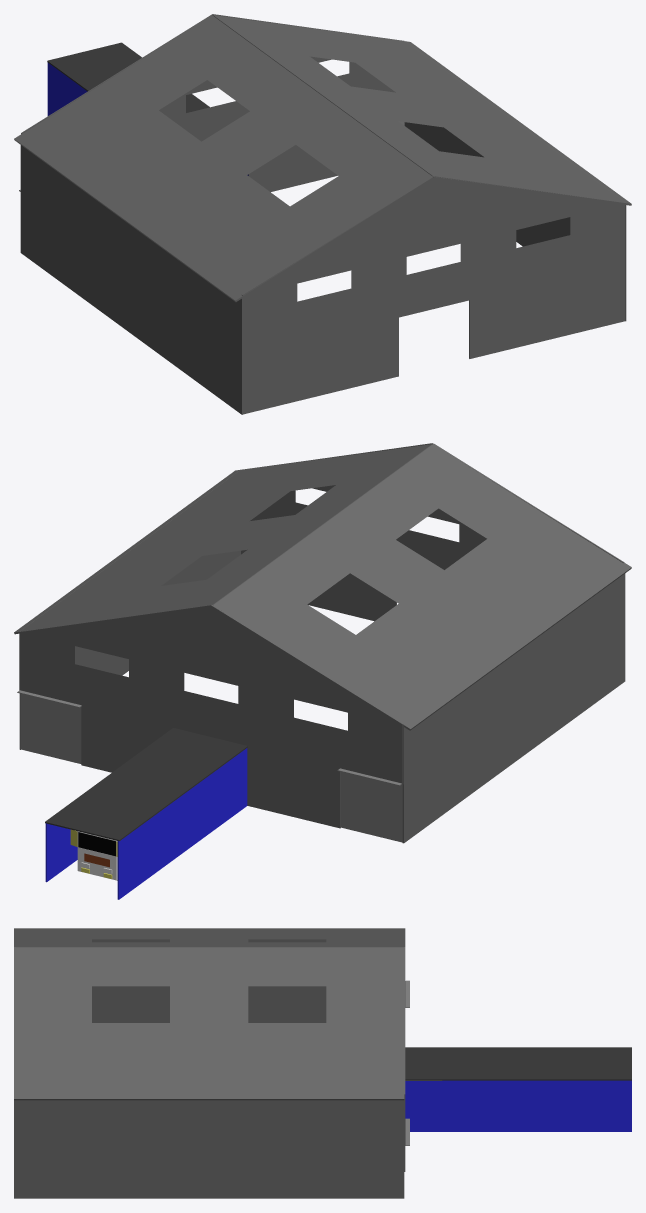
File: Warehouse.fbx
The picture shows the model from 3 angles, top to bottom: view 1: azimuth 30°, elevation 25°; view 2: azimuth 150°, elevation 25°; view 3: azimuth 270°, elevation 25°; orthographic projection. The views are drawn at different scales.
Parts seen in each view (by area): view 1: Cube.008, Cube.011, Cube.014, Cube.015, Cube.004, Cube.006, Cube.013, Cube.012, Cube.003, Cube.028, Cube.001, Cube.007 (+2 smaller); view 2: Cube.008, Cube.011, Cube.003, Cube.009, Cube.004, Cube.006, Cube.028, Cube.027, Cube.002, Cube.016, Cube.001, Cube.017 (+6 smaller); view 3: Cube.011, Cube.007, Cube.005, Cube.026, Cube.028, Cube.008, Cube.004, Cube.006.
Part boxes in pixels (x1=…): Cube.008: x1=14, y1=15, x2=433, y2=301; Cube.011: x1=212, y1=15, x2=631, y2=205; Cube.014: x1=243, y1=204, x2=624, y2=354; Cube.015: x1=242, y1=175, x2=620, y2=295; Cube.004: x1=20, y1=194, x2=243, y2=414; Cube.006: x1=20, y1=145, x2=243, y2=355; Cube.013: x1=243, y1=317, x2=398, y2=414; Cube.012: x1=469, y1=262, x2=624, y2=358; Cube.003: x1=159, y1=62, x2=395, y2=141; Cube.028: x1=47, y1=42, x2=209, y2=112; Cube.001: x1=248, y1=145, x2=337, y2=192; Cube.007: x1=404, y1=122, x2=626, y2=321; Cube.008: x1=213, y1=444, x2=631, y2=730; Cube.011: x1=14, y1=444, x2=432, y2=634; Cube.003: x1=19, y1=632, x2=403, y2=784; Cube.009: x1=20, y1=604, x2=403, y2=725; Cube.004: x1=402, y1=622, x2=625, y2=843; Cube.006: x1=403, y1=573, x2=625, y2=784; Cube.028: x1=45, y1=728, x2=247, y2=841; Cube.027: x1=117, y1=748, x2=247, y2=899; Cube.002: x1=247, y1=747, x2=340, y2=828; Cube.016: x1=337, y1=768, x2=402, y2=842; Cube.001: x1=81, y1=706, x2=171, y2=772; Cube.017: x1=17, y1=690, x2=81, y2=763; Cube.011: x1=14, y1=947, x2=404, y2=1100; Cube.007: x1=14, y1=1146, x2=404, y2=1198; Cube.005: x1=14, y1=1100, x2=404, y2=1146; Cube.026: x1=405, y1=1080, x2=631, y2=1131; Cube.028: x1=405, y1=1047, x2=631, y2=1080; Cube.008: x1=14, y1=928, x2=404, y2=947; Cube.004: x1=92, y1=986, x2=326, y2=1022; Cube.006: x1=92, y1=939, x2=326, y2=942.
Bounding box in the file's own units: 12193 × 5692 × 18651.
